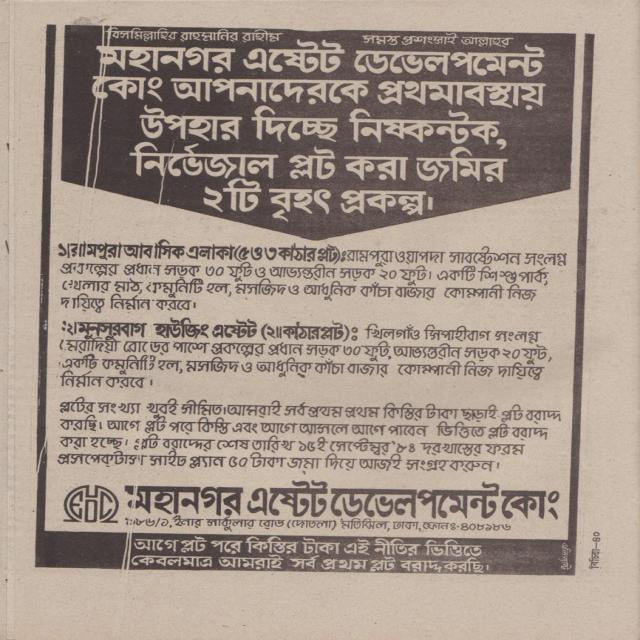advertisement: (33, 23, 597, 577)
page number: (591, 531, 602, 542)
text: (587, 542, 602, 570)
